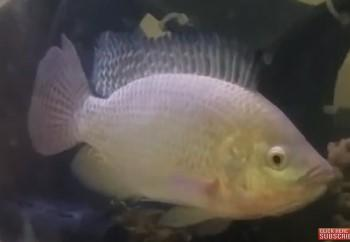Tilapia: (28, 29, 333, 229)
